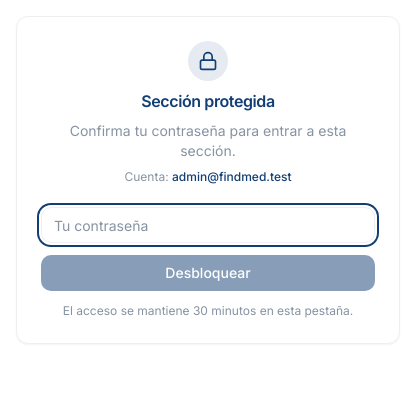
PasswordGate › no hay contraseña compartida: todo intento lo decide Supabase Auth
The image size is (417, 399).
In the password field labelled "Tu contraseña": (208, 225) [41,207,375,243], type "cualquier-clave-compartida"
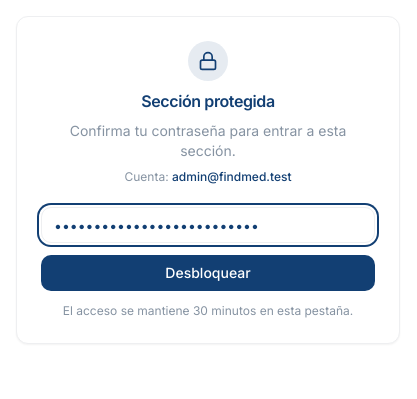
Click the button "Desbloquear": (208, 273) [41,255,375,291]
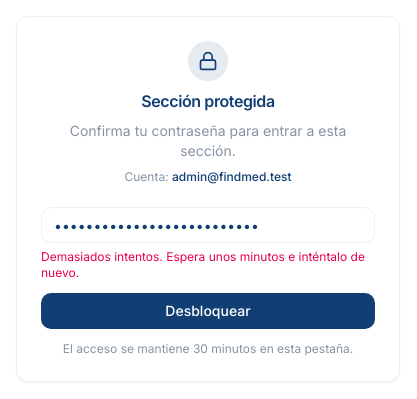
Now the text "Demasiados intentos. Espera unos minutos e inténtalo de nuevo." is shown, box [41,249,375,281]
